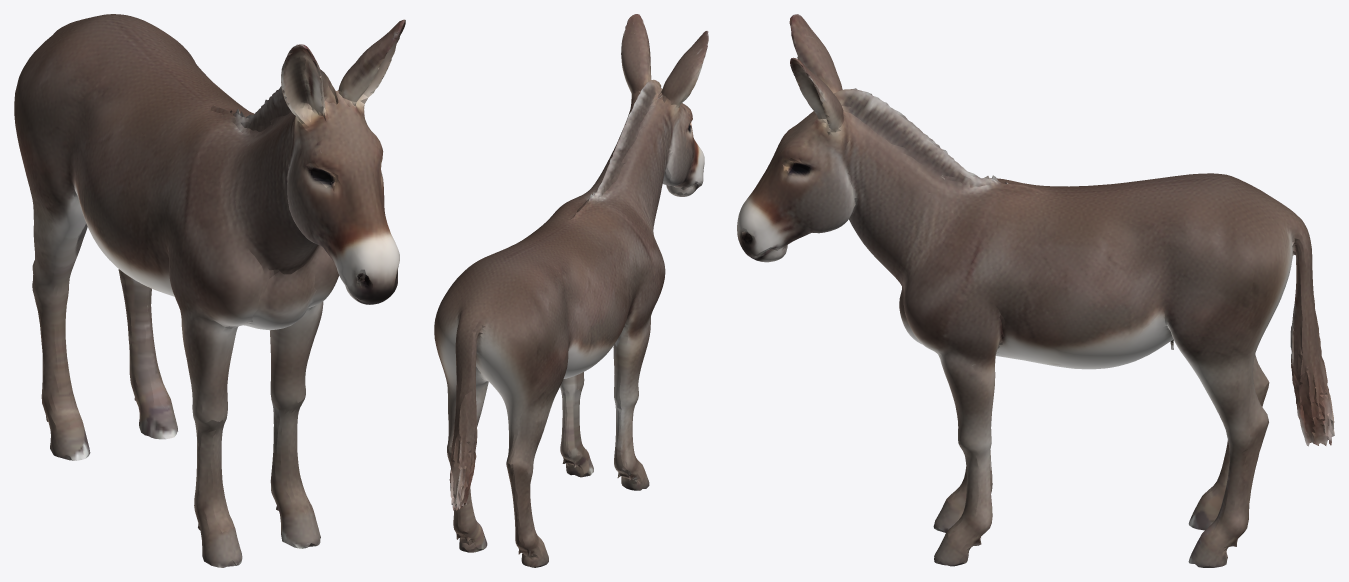
Rendered from donkey.glb.
3 renders of one model, left to right at view 1: azimuth 30°, elevation 25°; view 2: azimuth 150°, elevation 25°; view 3: azimuth 270°, elevation 25°, orthographic. The views are drawn at different scales.
Visible parts, largest first — view 1: model; view 2: model; view 3: model.
Part boxes in pixels (x1,y1,x2,y2): model: [14, 14, 405, 567]; model: [434, 14, 708, 567]; model: [737, 14, 1334, 567].
Bounding box in the file's own units: 0.5184 × 1.78 × 1.9.
1 material, 1 textured.
